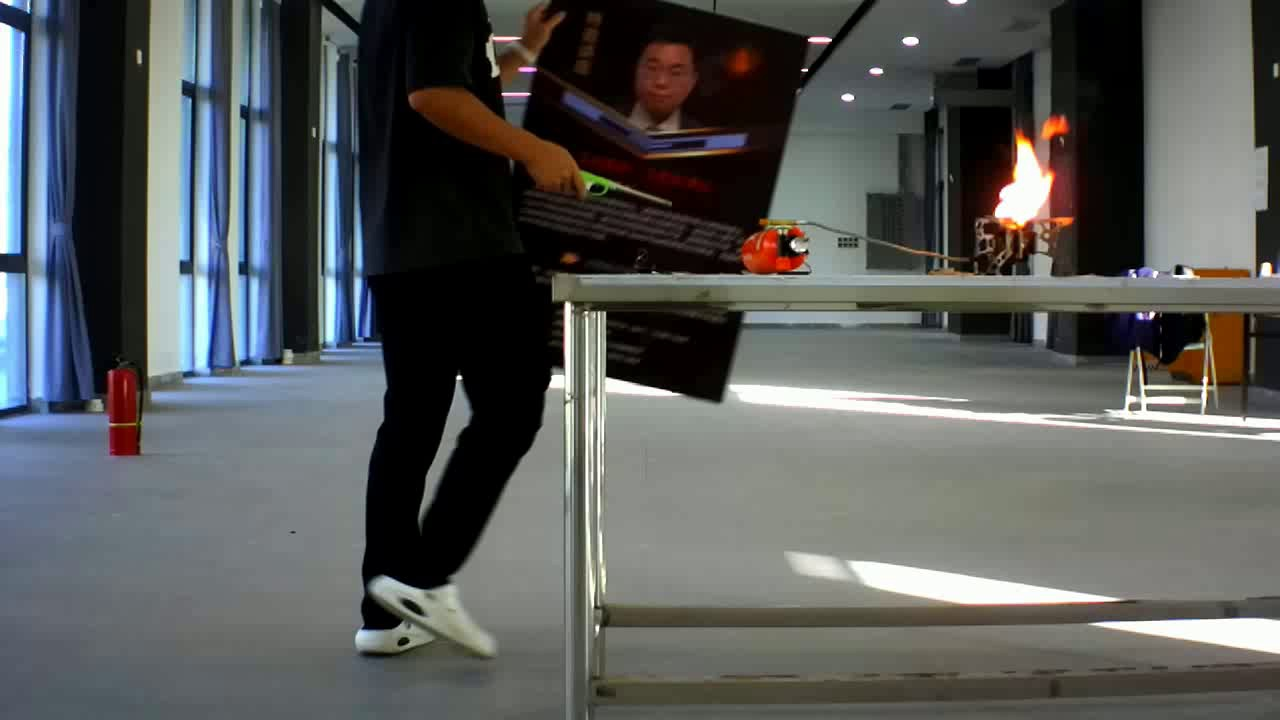Fire: (974, 105, 1076, 233)
